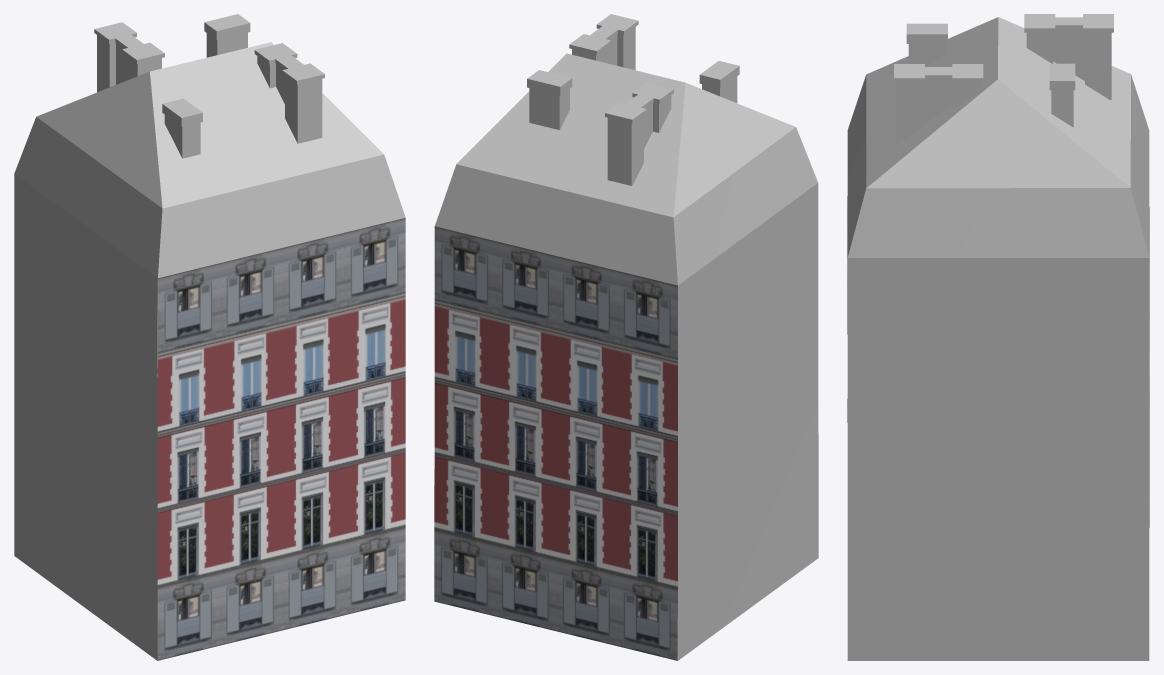
Rendered from LOD01_Builiding_ParisRed.obj.
3 views of the same model, side by side, from view 1: azimuth 30°, elevation 25°; view 2: azimuth 150°, elevation 25°; view 3: azimuth 270°, elevation 25° (orthographic). The views are drawn at different scales.
Visible parts, largest first — view 1: LOD01_Builiding_ParisRed; view 2: LOD01_Builiding_ParisRed; view 3: LOD01_Builiding_ParisRed.
Part boxes in pixels (box(x1,y1,x2,y2)): LOD01_Builiding_ParisRed: box(14, 14, 405, 660); LOD01_Builiding_ParisRed: box(434, 14, 818, 660); LOD01_Builiding_ParisRed: box(847, 14, 1149, 660).
Bounding box in the file's own units: 3.9 × 7.88 × 3.9.
